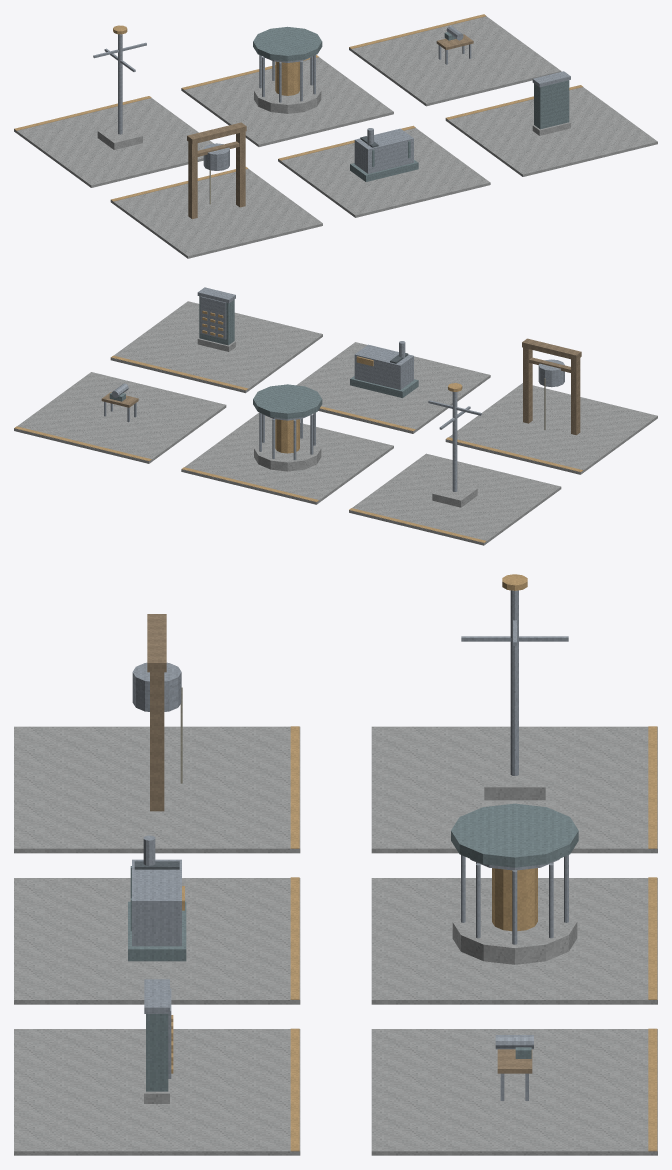
Rendered from level_blockout_kit_wld_14_p01.glb.
The picture shows the model from 3 angles, top to bottom: view 1: azimuth 30°, elevation 25°; view 2: azimuth 150°, elevation 25°; view 3: azimuth 270°, elevation 25°; orthographic projection. The views are drawn at different scales.
Parts seen in each view (by area): view 1: level_blockout_kit_wld_14_p01; view 2: level_blockout_kit_wld_14_p01; view 3: level_blockout_kit_wld_14_p01.
Boxes of the visible parts, <box> form: level_blockout_kit_wld_14_p01: <box>14,14,657,258</box>; level_blockout_kit_wld_14_p01: <box>14,287,657,545</box>; level_blockout_kit_wld_14_p01: <box>14,574,657,1155</box>.
Size of the model in its own units: 19.65 by 4.59 by 12.6.
Materials: 7 (7 with a texture image).
